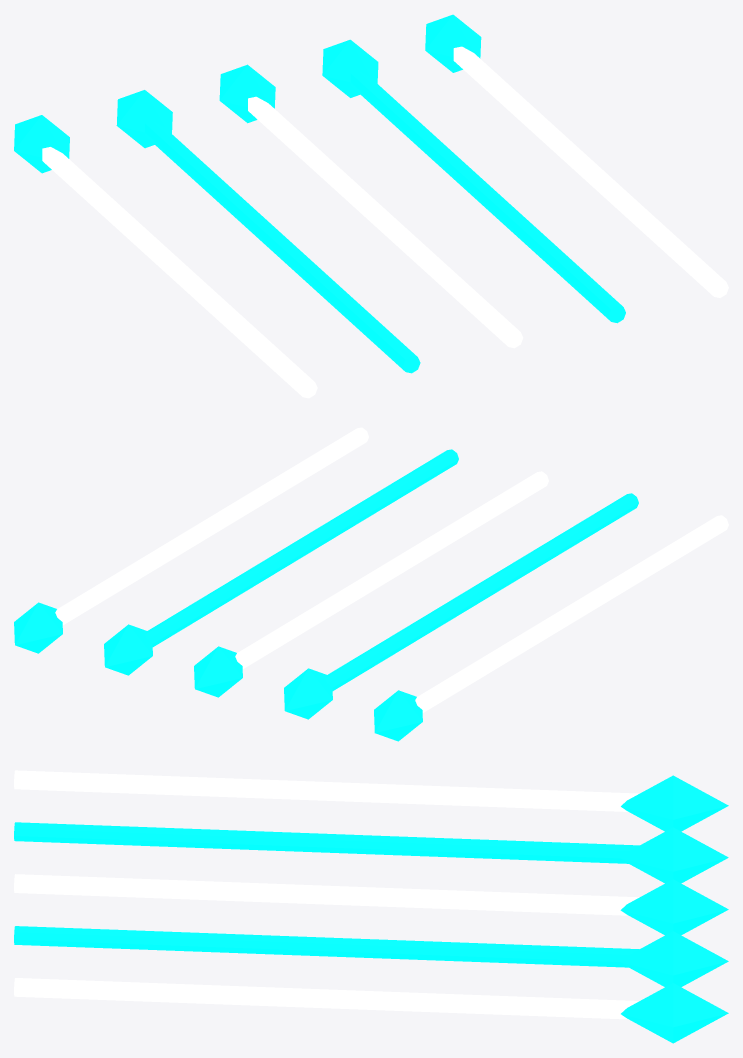
File: nova_needle.glb
3 renders of one model, top to bottom at view 1: azimuth 30°, elevation 25°; view 2: azimuth 150°, elevation 25°; view 3: azimuth 270°, elevation 25°, orthographic. The views are drawn at different scales.
Parts seen in each view (by area): view 1: NovaNeedleRail3, NovaNeedleRail4, NovaNeedleRail0, NovaNeedleRail1, NovaNeedleRail2, NovaNeedleDiamondTip0, NovaNeedleDiamondTip2, NovaNeedleDiamondTip4, NovaNeedleDiamondTip3, NovaNeedleDiamondTip1; view 2: NovaNeedleRail4, NovaNeedleRail2, NovaNeedleRail3, NovaNeedleRail1, NovaNeedleRail0, NovaNeedleDiamondTip0, NovaNeedleDiamondTip2, NovaNeedleDiamondTip3, NovaNeedleDiamondTip1, NovaNeedleDiamondTip4; view 3: NovaNeedleRail0, NovaNeedleRail2, NovaNeedleRail4, NovaNeedleRail1, NovaNeedleRail3, NovaNeedleDiamondTip4, NovaNeedleDiamondTip0, NovaNeedleDiamondTip1, NovaNeedleDiamondTip2, NovaNeedleDiamondTip3.
Part boxes in pixels (x1=…): NovaNeedleRail3: x1=350, y1=71, x2=625, y2=323; NovaNeedleRail4: x1=453, y1=46, x2=728, y2=297; NovaNeedleRail0: x1=42, y1=147, x2=317, y2=398; NovaNeedleRail1: x1=145, y1=121, x2=420, y2=373; NovaNeedleRail2: x1=248, y1=96, x2=523, y2=348; NovaNeedleDiamondTip0: x1=14, y1=115, x2=69, y2=173; NovaNeedleDiamondTip2: x1=219, y1=64, x2=275, y2=123; NovaNeedleDiamondTip4: x1=425, y1=14, x2=481, y2=72; NovaNeedleDiamondTip3: x1=322, y1=39, x2=378, y2=97; NovaNeedleDiamondTip1: x1=116, y1=90, x2=172, y2=148; NovaNeedleRail4: x1=55, y1=427, x2=368, y2=625; NovaNeedleRail2: x1=235, y1=471, x2=548, y2=668; NovaNeedleRail3: x1=145, y1=449, x2=458, y2=646; NovaNeedleRail1: x1=325, y1=493, x2=638, y2=690; NovaNeedleRail0: x1=415, y1=515, x2=728, y2=712; NovaNeedleDiamondTip0: x1=374, y1=690, x2=422, y2=741; NovaNeedleDiamondTip2: x1=194, y1=646, x2=242, y2=697; NovaNeedleDiamondTip3: x1=104, y1=624, x2=152, y2=675; NovaNeedleDiamondTip1: x1=284, y1=668, x2=332, y2=719; NovaNeedleDiamondTip4: x1=14, y1=602, x2=62, y2=653; NovaNeedleRail0: x1=14, y1=770, x2=638, y2=811; NovaNeedleRail2: x1=14, y1=874, x2=639, y2=915; NovaNeedleRail4: x1=14, y1=978, x2=639, y2=1019; NovaNeedleRail1: x1=14, y1=822, x2=639, y2=863; NovaNeedleRail3: x1=14, y1=926, x2=639, y2=967; NovaNeedleDiamondTip4: x1=621, y1=983, x2=728, y2=1043; NovaNeedleDiamondTip0: x1=621, y1=775, x2=728, y2=831; NovaNeedleDiamondTip1: x1=620, y1=827, x2=728, y2=883; NovaNeedleDiamondTip2: x1=620, y1=879, x2=728, y2=935; NovaNeedleDiamondTip3: x1=620, y1=931, x2=728, y2=987.
Size of the model in its own units: 1.2 by 0.1344 by 1.44.
